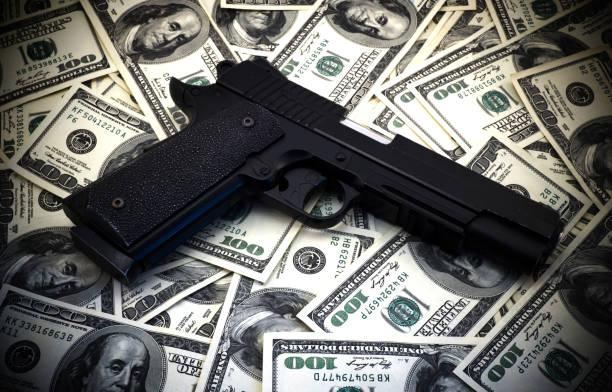weapon: (59, 56, 566, 287)
